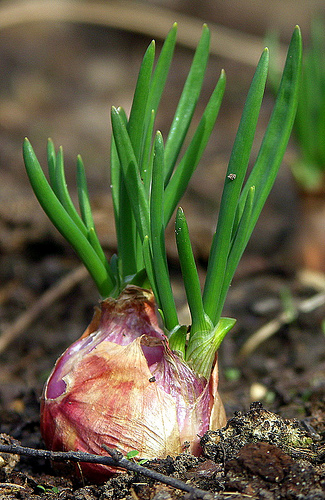onion: (41, 298, 231, 482)
